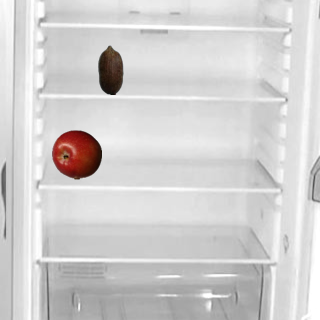Apple Braeburn: (51, 129, 101, 179)
Nut Pecan: (85, 44, 135, 94)
